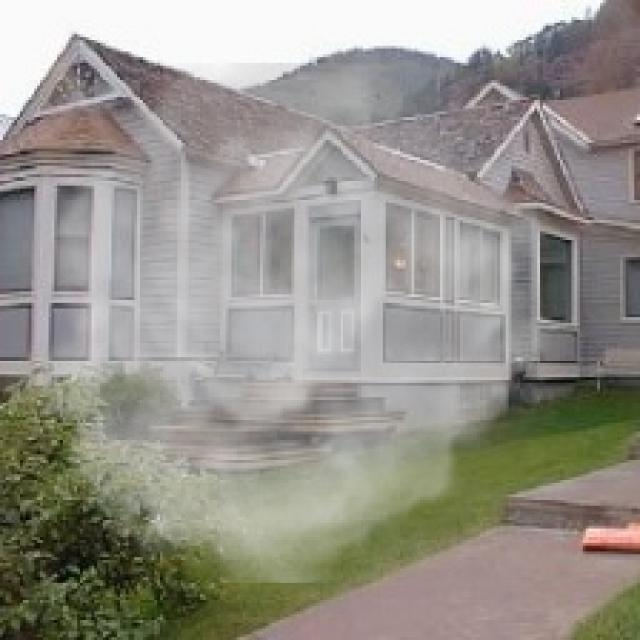smoke: (6, 63, 571, 583)
